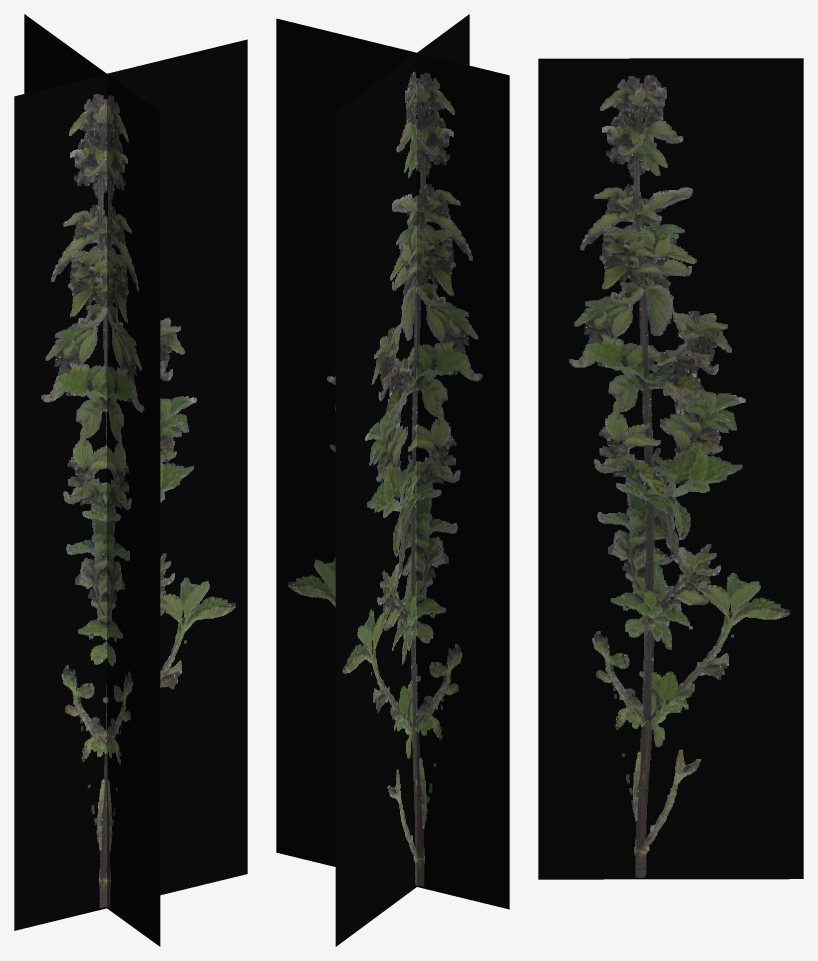
File: tall_thin_foliage_01.glb
3 renders of one model, left to right at view 1: azimuth 30°, elevation 25°; view 2: azimuth 150°, elevation 25°; view 3: azimuth 270°, elevation 25°, orthographic.
Parts seen in each view (by area): view 1: Plane.087; view 2: Plane.087; view 3: Plane.087.
Boxes of the visible parts, x1,y1,x2,y2 form: Plane.087: (14, 14, 247, 946); Plane.087: (276, 14, 509, 946); Plane.087: (538, 58, 803, 879).
Size of the model in its own units: 0.7803 by 2.67 by 0.7803.
Materials: 1 (1 with a texture image).
